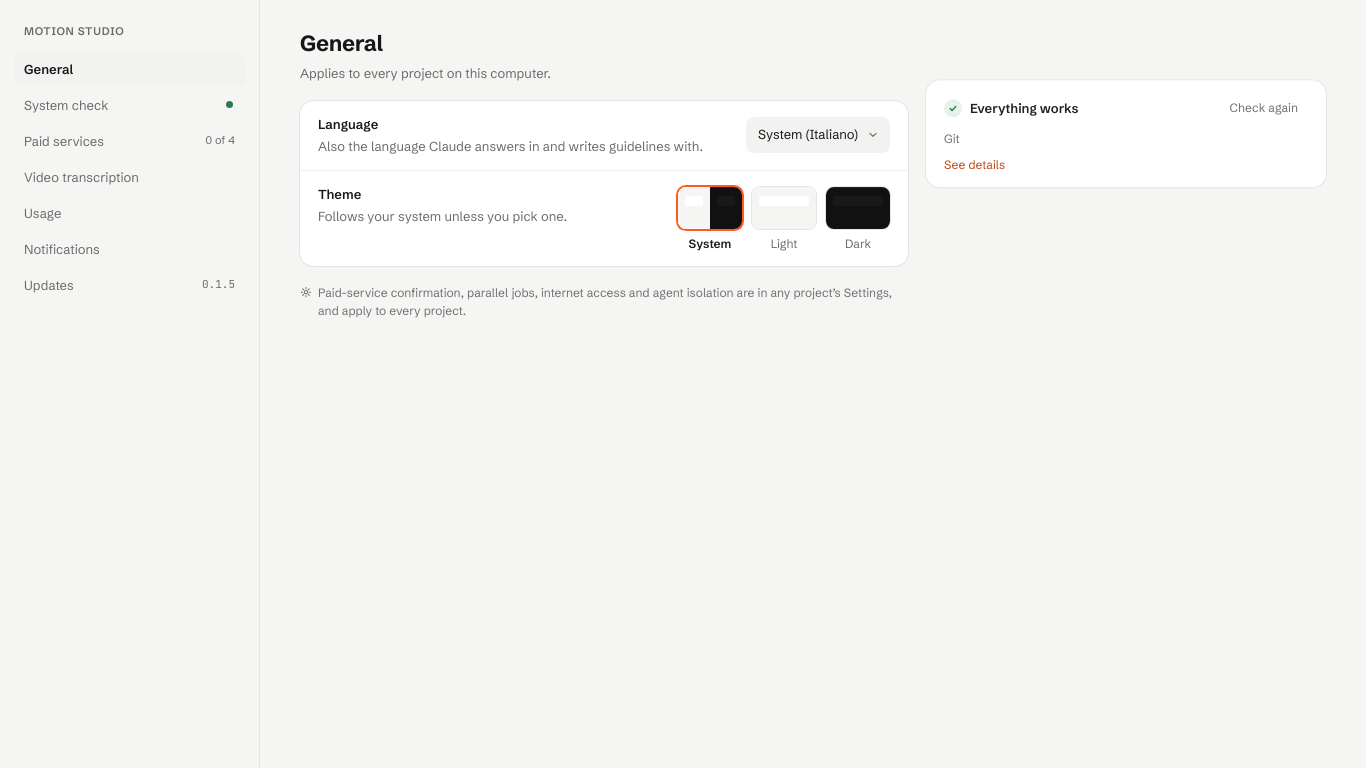
language selector › shows why a change failed
Click the button named "Language System (Italiano)" at (818, 135), box [746,117,890,153]
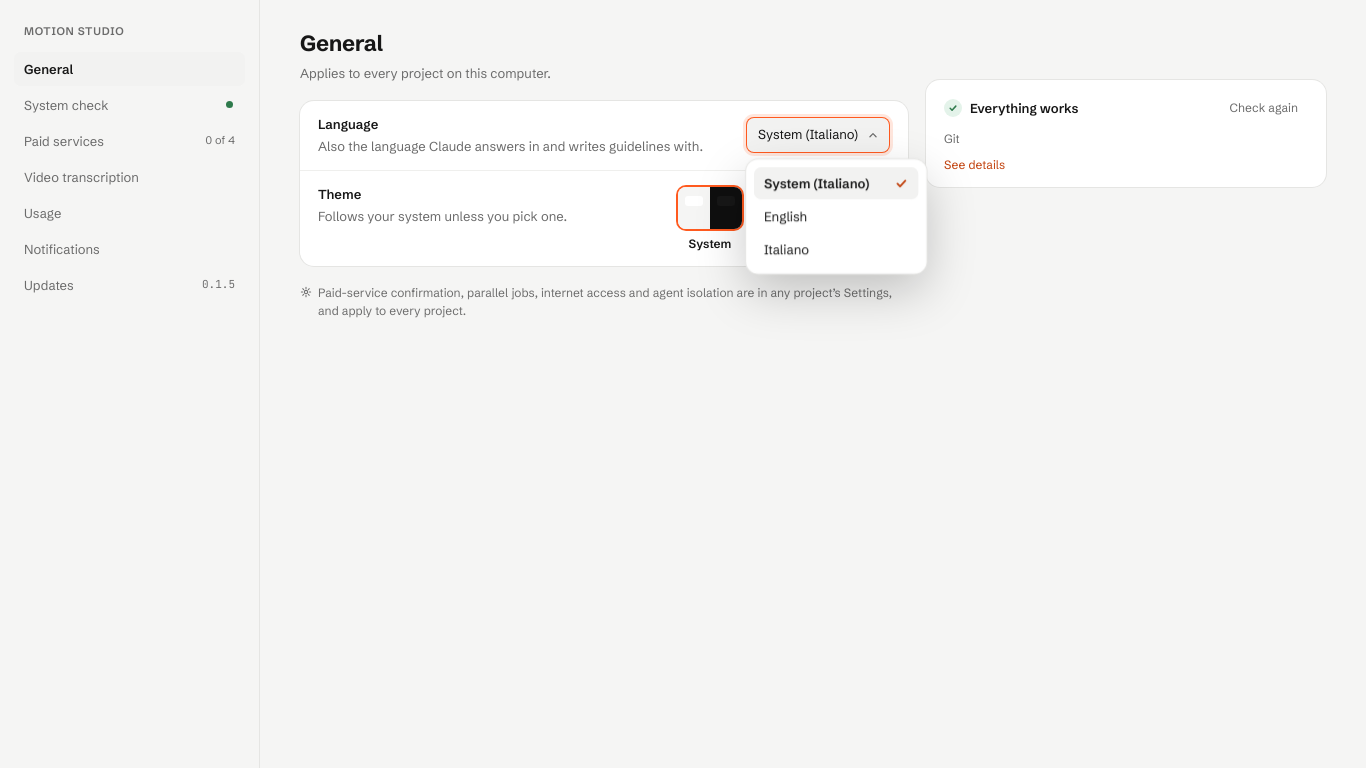
Click the option "English" at (785, 215), box [764,207,807,223]
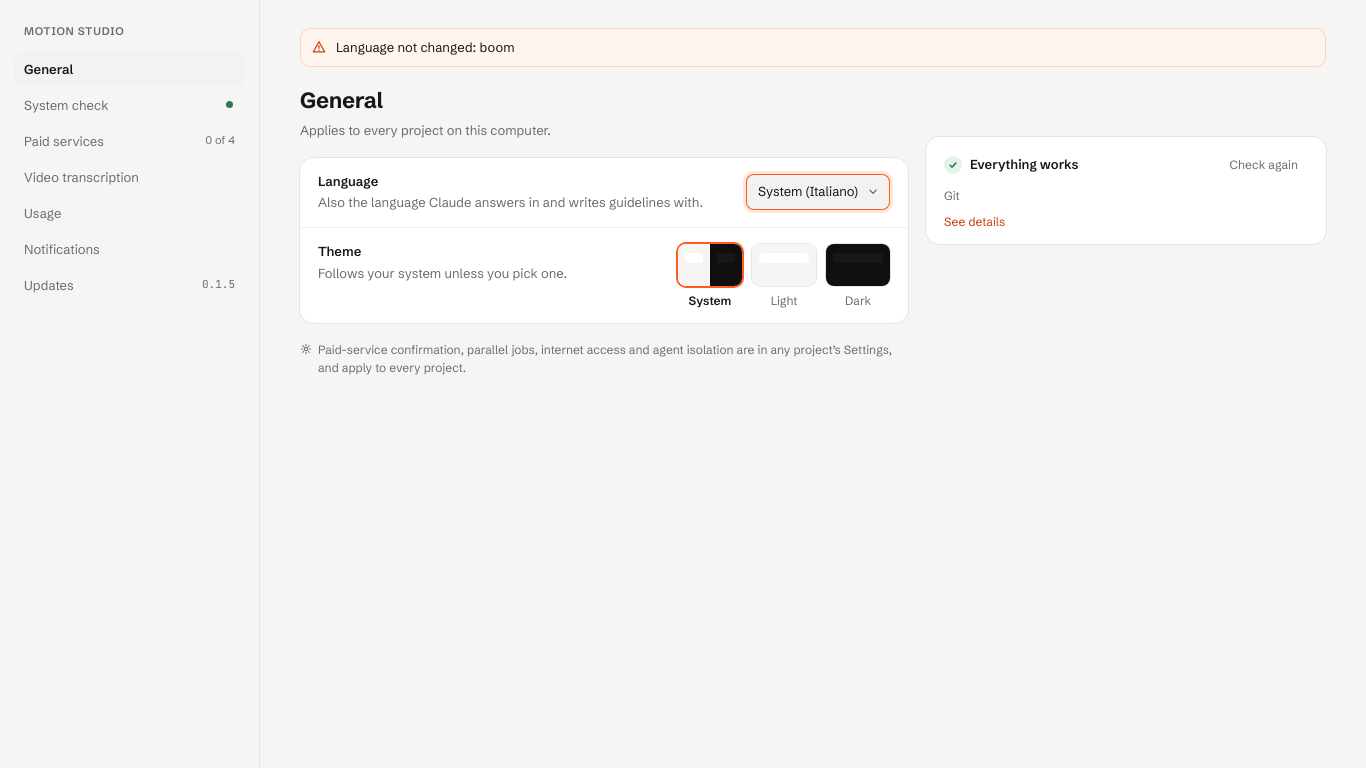
Now the message reads "Language not changed: boom", box [336,39,515,55]
